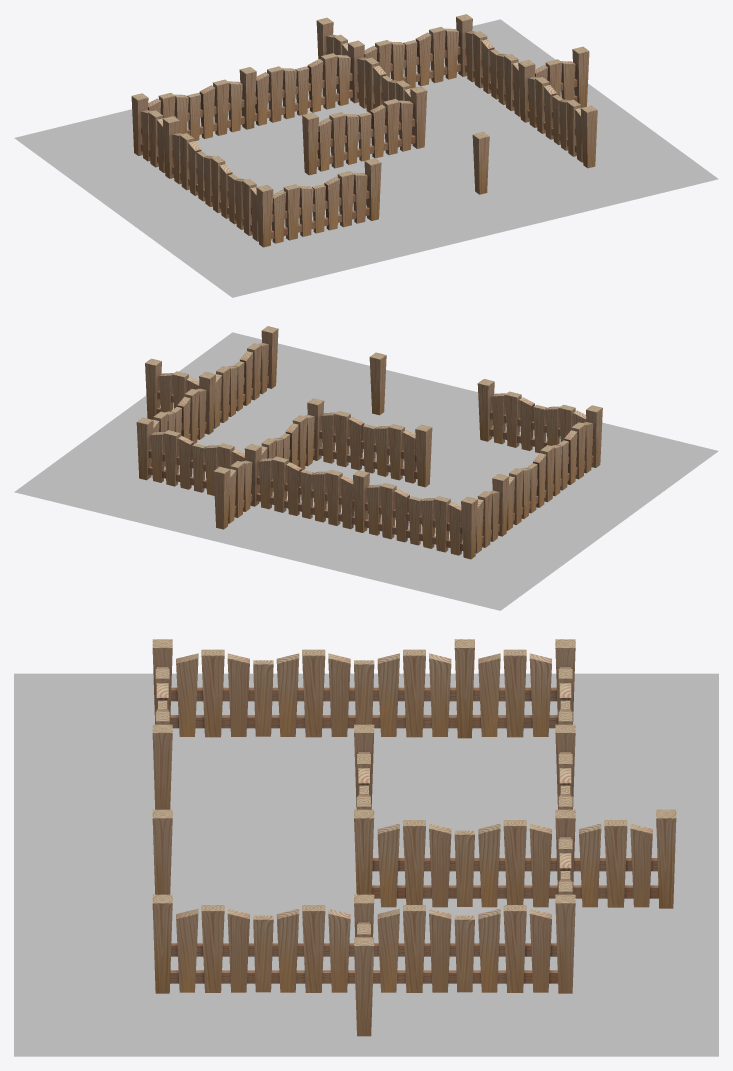
File: low_poly_fence.fbx
The picture shows the model from 3 angles, top to bottom: view 1: azimuth 30°, elevation 25°; view 2: azimuth 150°, elevation 25°; view 3: azimuth 270°, elevation 25°; orthographic projection. The views are drawn at different scales.
Visible parts, largest first — view 1: scf:cell024, scf:Box050, scf:Box053, scf:Box048, scf:Box049, scf:fence2_corner4, scf:Box044, scf:Box037, scf:fence2_middle, scf:fence2_corner3, scf:Box038, scf:Box052 (+13 smaller); view 2: scf:cell024, scf:Box050, scf:Box049, scf:fence2_middle, scf:Box053, scf:fence2_corner4, scf:Box047, scf:Box048, scf:Box037, scf:fence2_corner3, scf:Box052, scf:Box038 (+13 smaller); view 3: scf:cell024, scf:fence2_middle2, scf:Box039, scf:Box051, scf:Box045, scf:Box040, scf:Box046, scf:fence2_corner4, scf:fence2_corner3, scf:Box038, scf:Box042, scf:fence2_end001 (+8 smaller).
Part boxes in pixels (<box>): scf:cell024: <box>14,19,718,297</box>; scf:Box050: <box>219,67,277,134</box>; scf:Box053: <box>336,100,393,167</box>; scf:Box048: <box>290,172,348,239</box>; scf:Box049: <box>273,54,331,121</box>; scf:fence2_corner4: <box>327,37,385,112</box>; scf:Box044: <box>245,181,293,247</box>; scf:Box037: <box>381,28,439,88</box>; scf:fence2_middle: <box>165,81,223,141</box>; scf:fence2_corner3: <box>507,56,555,131</box>; scf:Box038: <box>435,14,483,85</box>; scf:Box052: <box>390,83,427,154</box>; scf:cell024: <box>14,332,718,610</box>; scf:Box050: <box>332,470,389,538</box>; scf:Box049: <box>278,458,336,524</box>; scf:fence2_middle: <box>386,484,444,551</box>; scf:Box053: <box>340,412,398,479</box>; scf:fence2_corner4: <box>224,440,281,515</box>; scf:Box047: <box>440,493,488,559</box>; scf:Box048: <box>511,393,568,453</box>; scf:Box037: <box>170,431,227,495</box>; scf:fence2_corner3: <box>178,368,226,443</box>; scf:Box052: <box>296,398,344,469</box>; scf:Box038: <box>136,414,173,485</box>; scf:cell024: <box>14,673,718,1056</box>; scf:fence2_middle2: <box>414,639,515,738</box>; scf:Box039: <box>414,905,515,992</box>; scf:Box051: <box>414,820,515,907</box>; scf:Box045: <box>213,649,313,737</box>; scf:Box040: <box>213,905,313,992</box>; scf:Box046: <box>313,649,414,737</box>; scf:fence2_corner4: <box>515,801,615,907</box>; scf:fence2_corner3: <box>313,894,414,992</box>; scf:Box038: <box>515,886,575,993</box>; scf:Box042: <box>152,894,212,993</box>; scf:fence2_end001: <box>616,809,676,908</box>.
Bounding box in the file's own units: 450 × 50.83 × 350.
